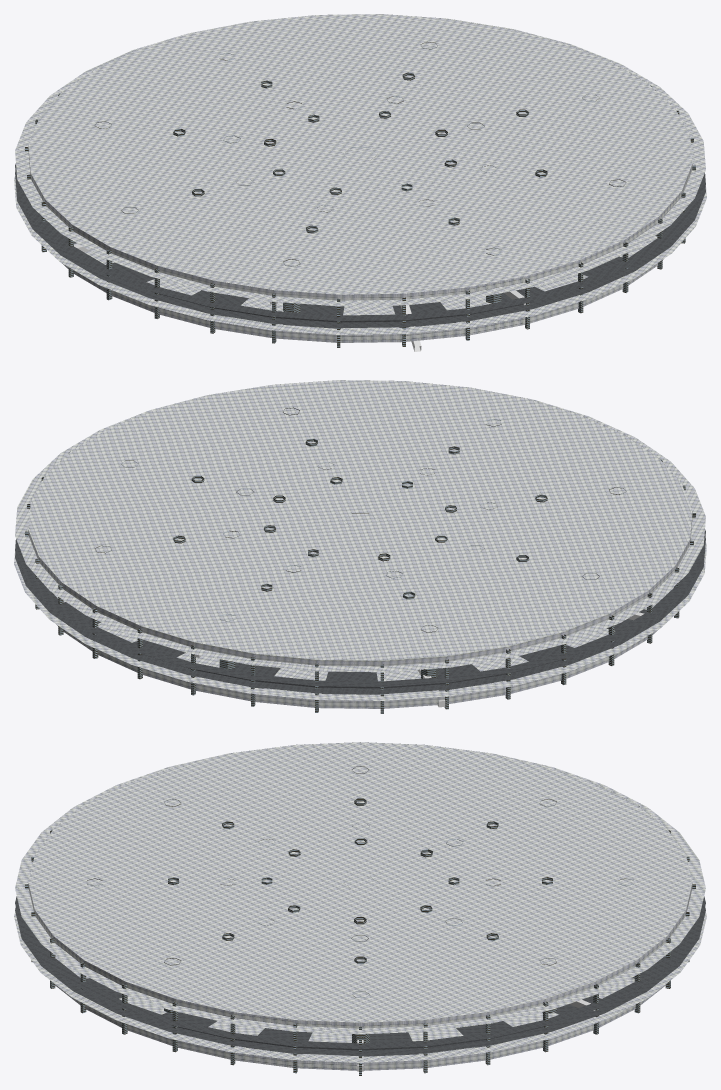
File: Floor 3.fbx
The picture shows the model from 3 angles, top to bottom: view 1: azimuth 30°, elevation 25°; view 2: azimuth 150°, elevation 25°; view 3: azimuth 270°, elevation 25°; orthographic projection.
Parts seen in each view (by area): view 1: main.001; view 2: main.001; view 3: main.001.
Part boxes in pixels (<box>): main.001: <box>14,14,706,351</box>; main.001: <box>14,380,706,713</box>; main.001: <box>14,742,706,1075</box>.
Size of what is drawn, in the model's own units: 20872 by 2255 by 20872.
